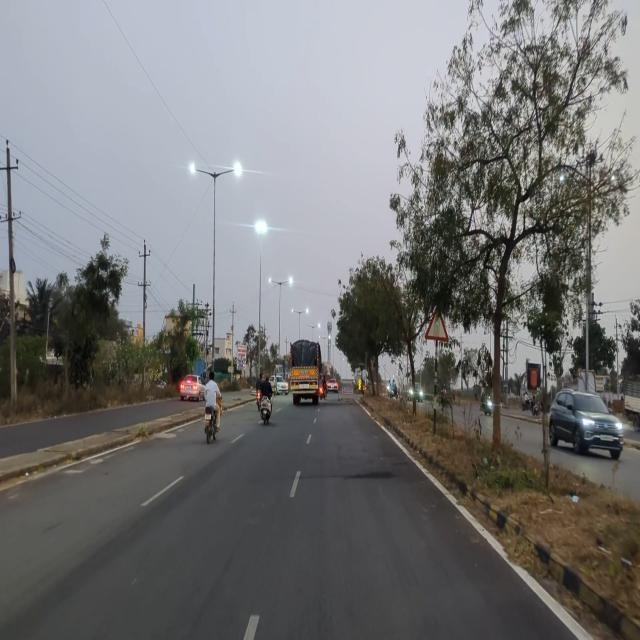bien_nguy_hiem: (425, 304, 448, 344)
